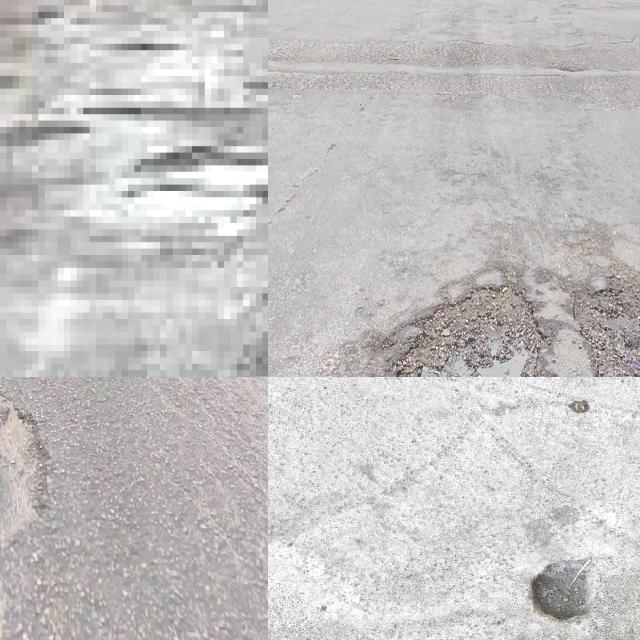Pothole: (394, 282, 538, 377), (572, 261, 640, 377), (122, 146, 268, 197), (0, 401, 46, 556), (529, 557, 604, 622), (569, 400, 589, 413)
